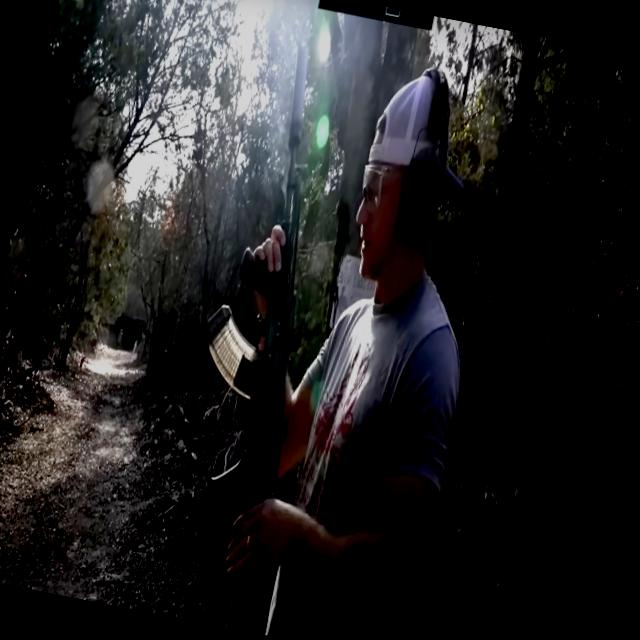ak: (147, 12, 383, 636)
